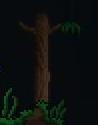tree: (1, 0, 98, 125)
